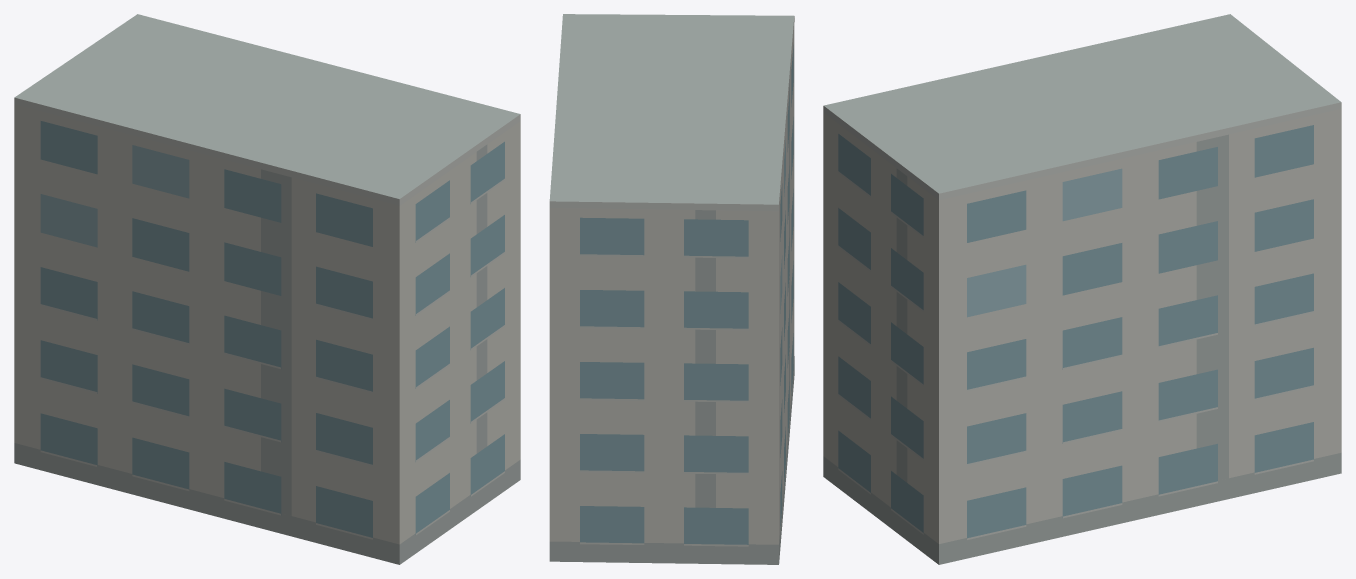
Rendered from survey-upis-32893707.glb.
3 views of the same model, side by side, from view 1: azimuth 30°, elevation 25°; view 2: azimuth 150°, elevation 25°; view 3: azimuth 270°, elevation 25° (orthographic). The views are drawn at different scales.
Parts seen in each view (by area): view 1: survey-upis-32893707.tmp; view 2: survey-upis-32893707.tmp; view 3: survey-upis-32893707.tmp.
Boxes of the visible parts, x1=… form: survey-upis-32893707.tmp: x1=14, y1=14, x2=520, y2=564; survey-upis-32893707.tmp: x1=549, y1=14, x2=794, y2=564; survey-upis-32893707.tmp: x1=823, y1=14, x2=1341, y2=564.
Size of the model in its own units: 13.87 by 13.35 by 16.9.
